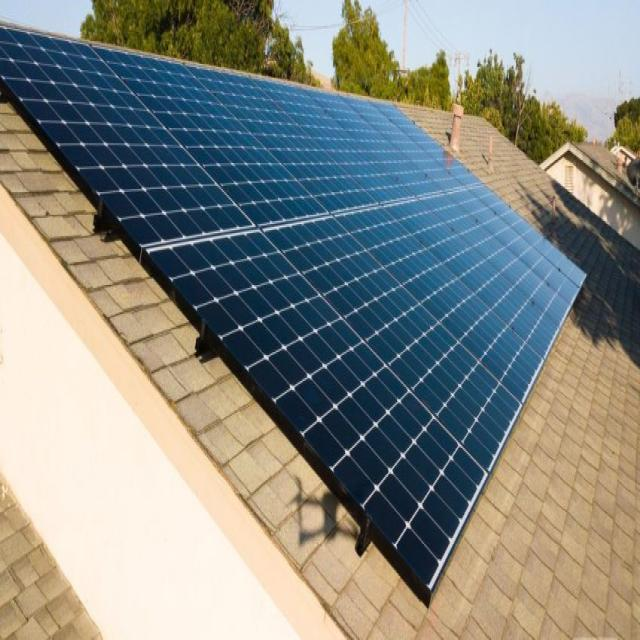clean-solar-panel: (0, 27, 582, 601)
